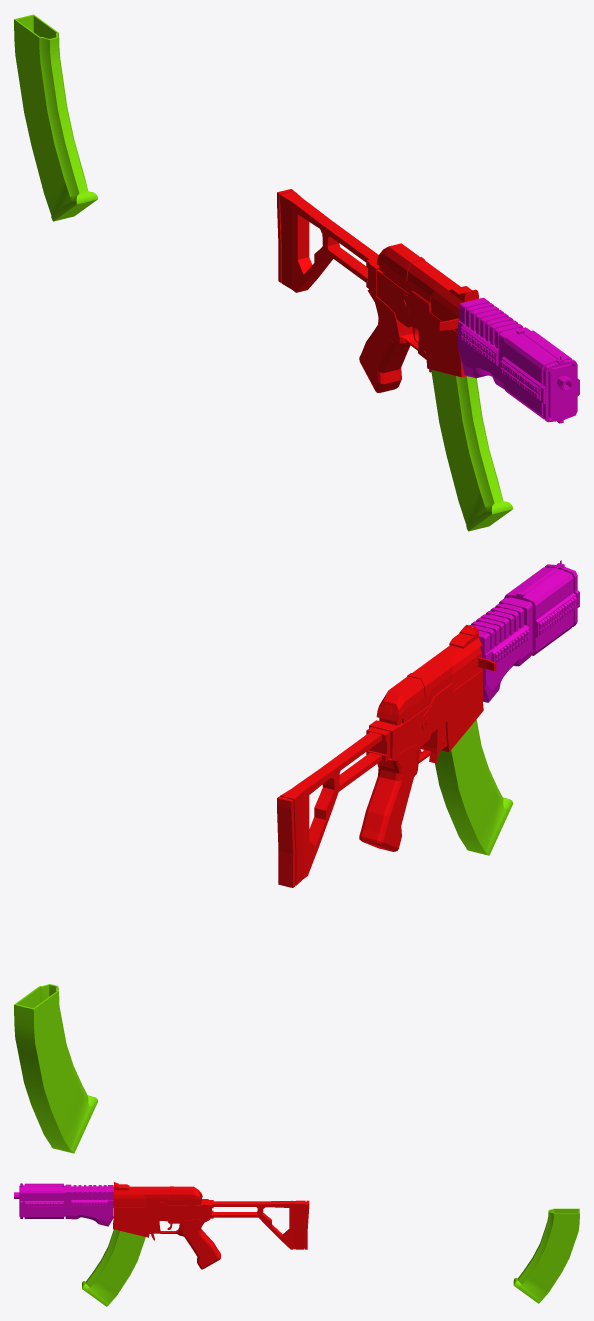
The picture shows the model from 3 angles, top to bottom: view 1: azimuth 30°, elevation 25°; view 2: azimuth 150°, elevation 25°; view 3: azimuth 270°, elevation 25°; orthographic projection. The views are drawn at different scales.
Parts seen in each view (by area): view 1: SM_Ar; view 2: SM_Ar; view 3: SM_Ar.
Part boxes in pixels (x1,y1,x2,y2): SM_Ar: [14, 14, 579, 531]; SM_Ar: [14, 560, 579, 1153]; SM_Ar: [14, 1182, 579, 1306].
Bounding box in the file's own units: 0.5562 × 2.54 × 10.79.
